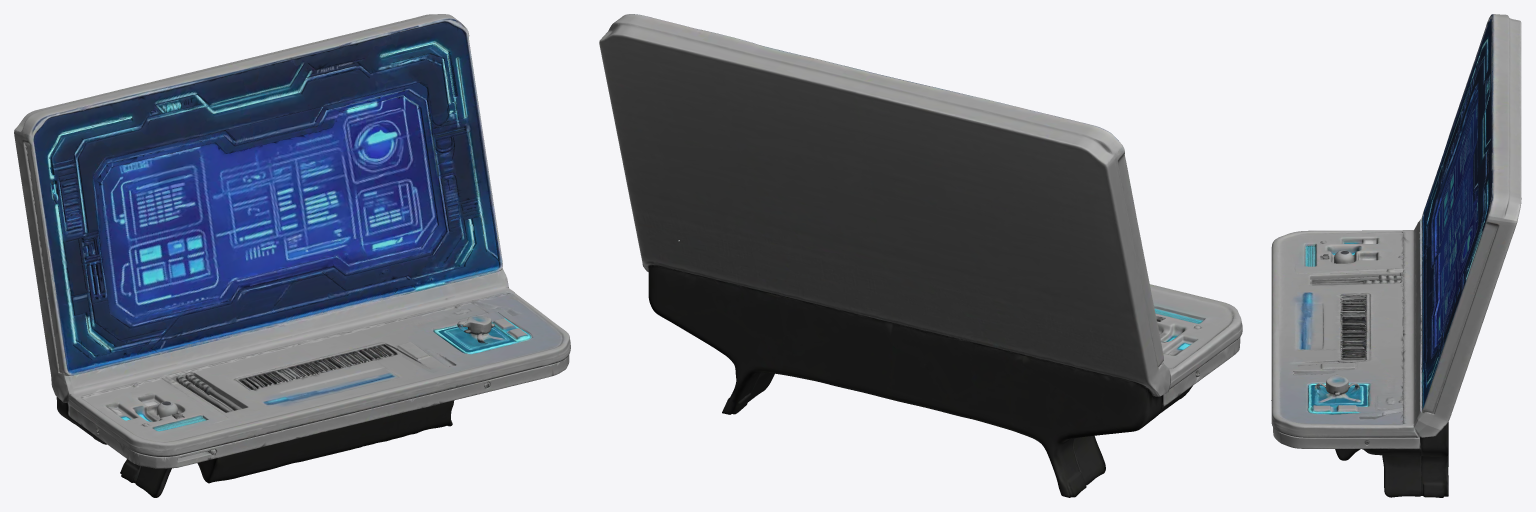
File: console.glb
The picture shows the model from 3 angles, left to right: view 1: azimuth 30°, elevation 25°; view 2: azimuth 150°, elevation 25°; view 3: azimuth 270°, elevation 25°; orthographic projection. The views are drawn at different scales.
Parts seen in each view (by area): view 1: tripo_node_cf75ce0a-2d2b-4804-900e-91203e27b51b; view 2: tripo_node_cf75ce0a-2d2b-4804-900e-91203e27b51b; view 3: tripo_node_cf75ce0a-2d2b-4804-900e-91203e27b51b.
Boxes of the visible parts, left/top/right/bottom form: tripo_node_cf75ce0a-2d2b-4804-900e-91203e27b51b: left=14, top=14, right=570, bottom=497; tripo_node_cf75ce0a-2d2b-4804-900e-91203e27b51b: left=599, top=14, right=1242, bottom=497; tripo_node_cf75ce0a-2d2b-4804-900e-91203e27b51b: left=1271, top=14, right=1521, bottom=497.
Size of the model in its own units: 0.9786 by 0.7441 by 0.5172.
Materials: 1 (1 with a texture image).
